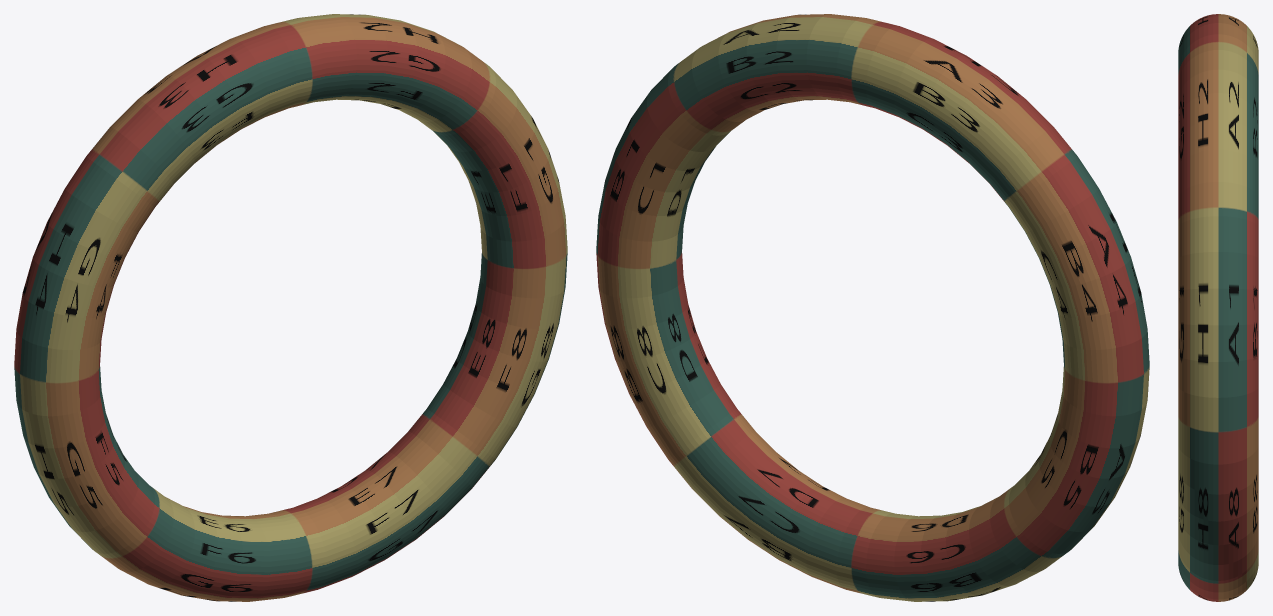
Rendered from texture_torus_R24_r8.glb.
3 views of the same model, side by side, from view 1: azimuth 30°, elevation 25°; view 2: azimuth 150°, elevation 25°; view 3: azimuth 270°, elevation 25° (orthographic). The views are drawn at different scales.
Visible parts, largest first — view 1: world; view 2: world; view 3: world.
Part boxes in pixels (left/top/right/bottom): world: left=14, top=14, right=567, bottom=601; world: left=596, top=14, right=1149, bottom=601; world: left=1178, top=14, right=1258, bottom=601.
Bounding box in the file's own units: 30.13 × 30.07 × 4.13.
1 material, 1 textured.
